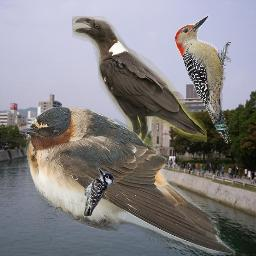Crow: (72, 16, 207, 160)
Swallow: (19, 106, 236, 255)
Woodpecker: (175, 14, 231, 144), (75, 167, 114, 216)
